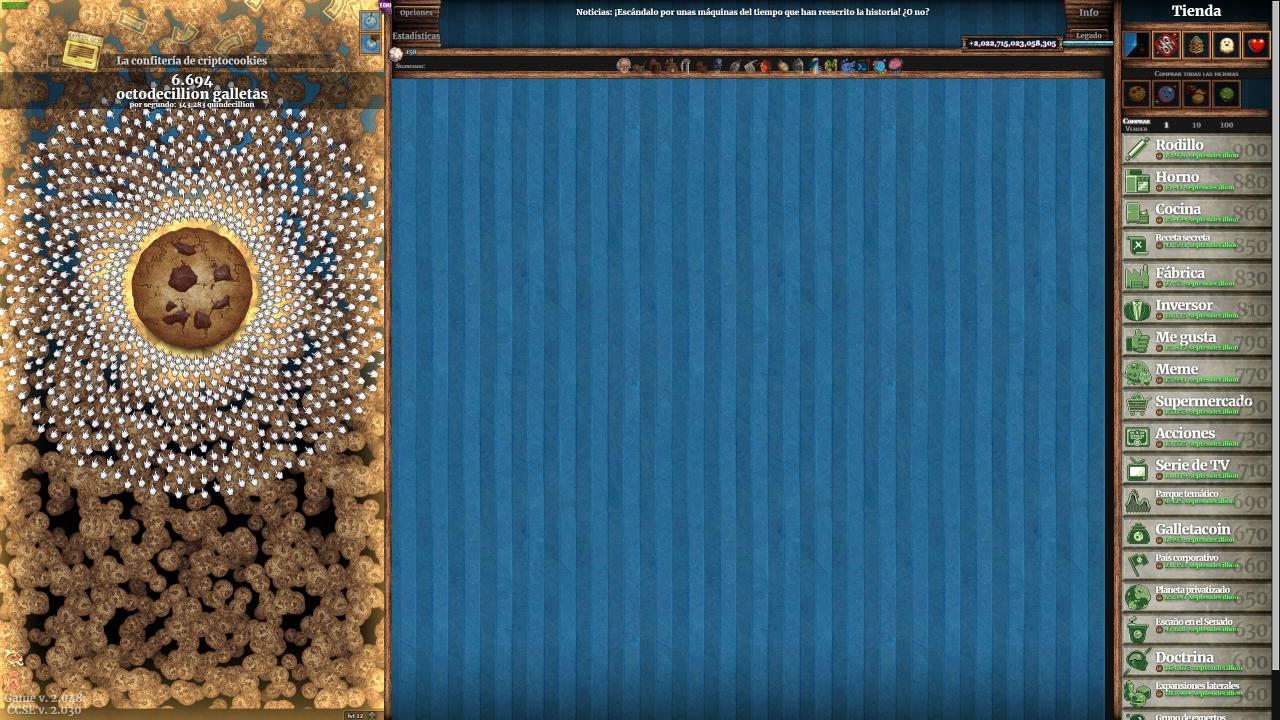GoldenCartridge: (59, 28, 106, 74)
